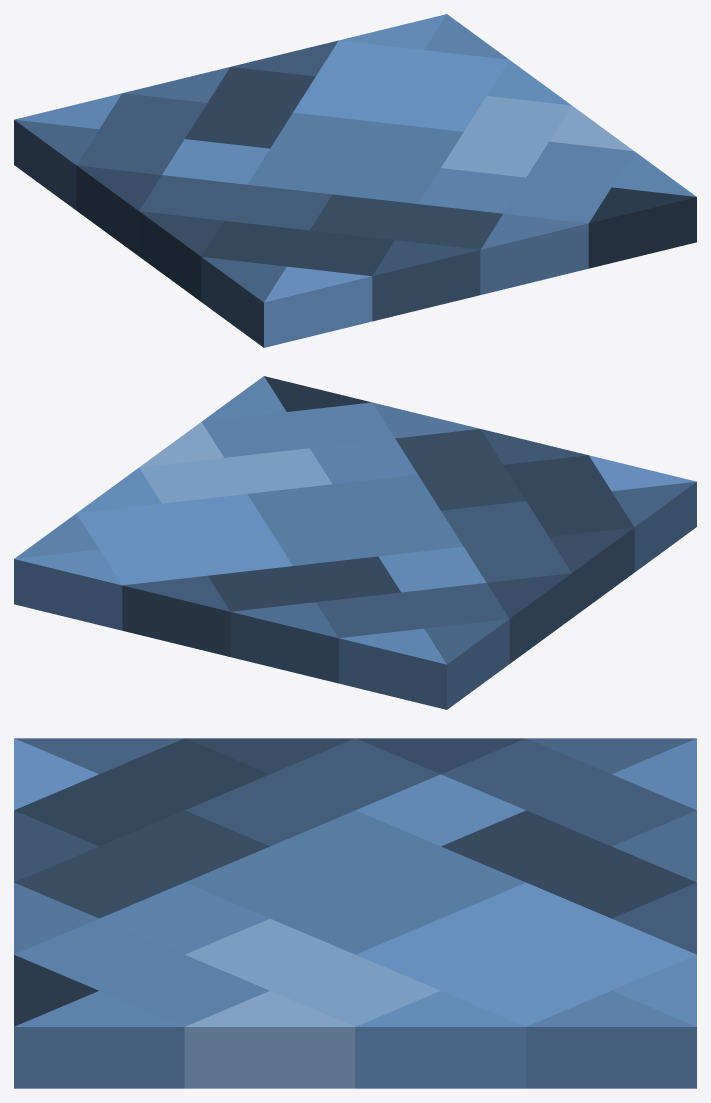
File: Floor_J.fbx
3 views of the same model, one above another, from view 1: azimuth 30°, elevation 25°; view 2: azimuth 150°, elevation 25°; view 3: azimuth 270°, elevation 25° (orthographic). The views are drawn at different scales.
Visible parts, largest first — view 1: Floor_J; view 2: Floor_J; view 3: Floor_J.
Part boxes in pixels (x1,y1,x2,y2): Floor_J: [14, 14, 696, 347]; Floor_J: [14, 376, 696, 709]; Floor_J: [14, 738, 696, 1088].
Size of the model in its own units: 250 by 25 by 250.
